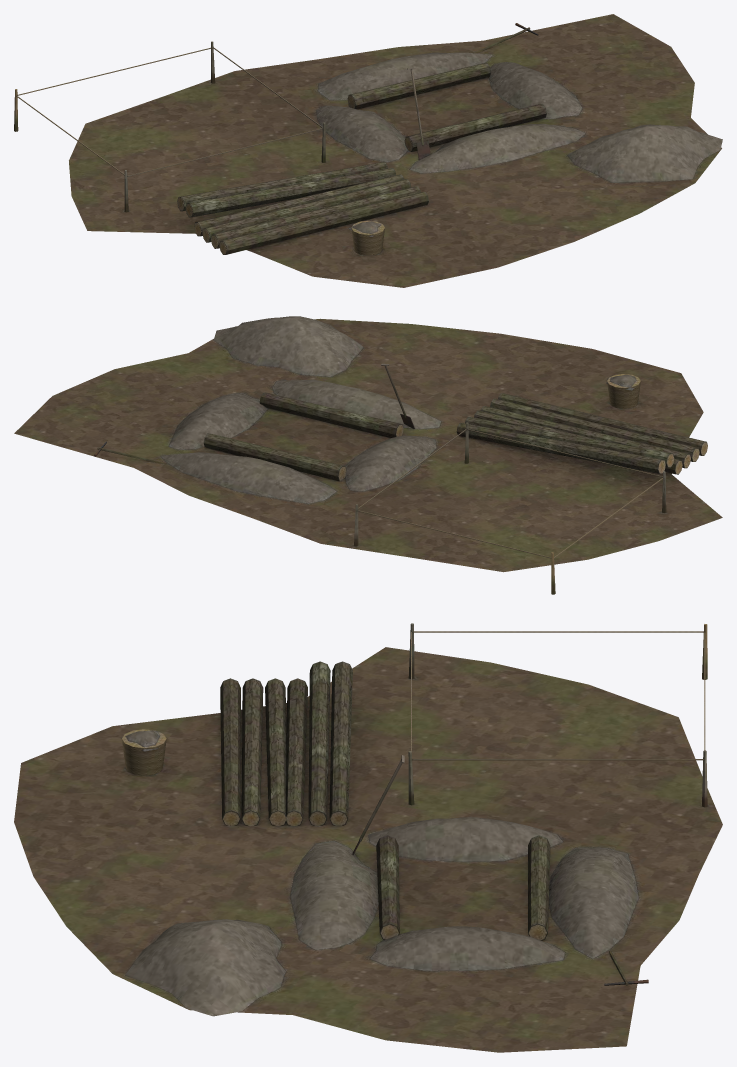
File: mining_camp_build1.glb
3 views of the same model, one above another, from view 1: azimuth 30°, elevation 25°; view 2: azimuth 150°, elevation 25°; view 3: azimuth 270°, elevation 25° (orthographic). The views are drawn at different scales.
Parts seen in each view (by area): view 1: mining_camp_build1_LOD0; view 2: mining_camp_build1_LOD0; view 3: mining_camp_build1_LOD0.
Part boxes in pixels (x1,y1,x2,y2): mining_camp_build1_LOD0: [14, 14, 722, 287]; mining_camp_build1_LOD0: [14, 316, 722, 594]; mining_camp_build1_LOD0: [14, 623, 722, 1052].
Size of what is drawn, in the model's own units: 11.13 by 1.33 by 8.22.
Materials: 1 (1 with a texture image).
